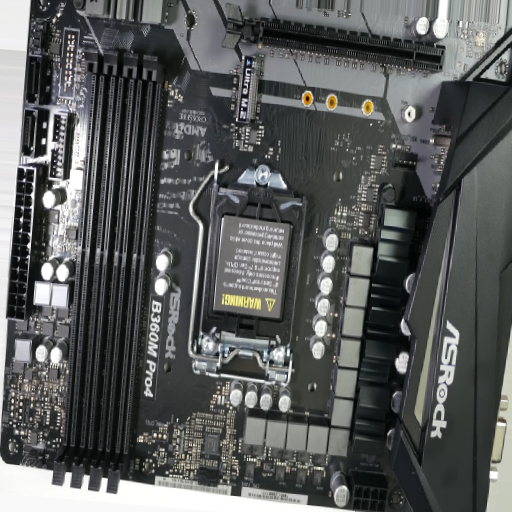CPU: (190, 163, 308, 388)
GPU: (222, 3, 444, 70)
MOTHERBOARD: (2, 3, 508, 512)
RAM: (51, 46, 167, 491)
SSD: (233, 55, 262, 120)
